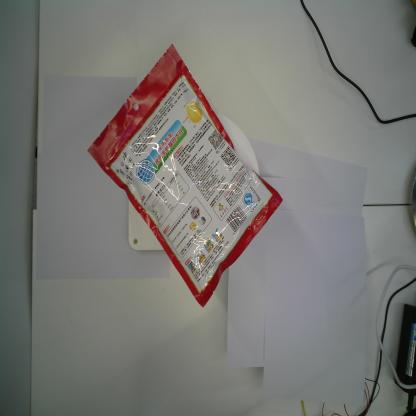Instant Drink: (87, 44, 283, 308)
